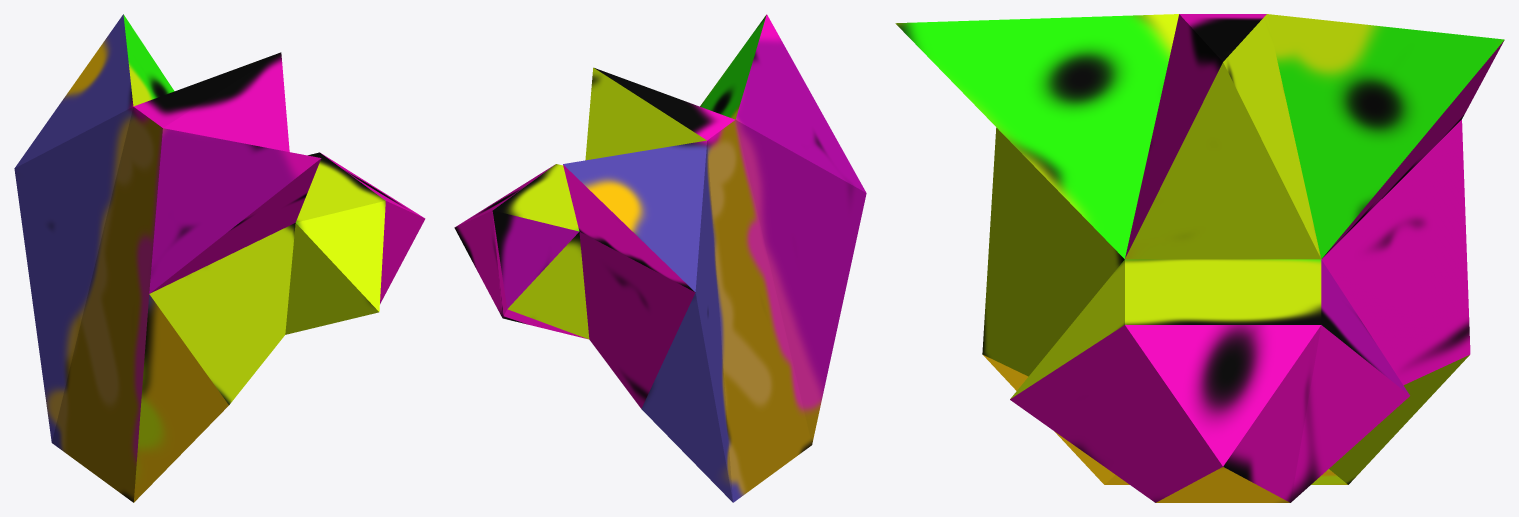
File: thing5.fbx
The picture shows the model from 3 angles, left to right: view 1: azimuth 30°, elevation 25°; view 2: azimuth 150°, elevation 25°; view 3: azimuth 270°, elevation 25°; orthographic projection. The views are drawn at different scales.
Visible parts, largest first — view 1: Cube; view 2: Cube; view 3: Cube.
Part boxes in pixels (bbox=[...]): Cube: bbox=[14, 14, 425, 502]; Cube: bbox=[454, 14, 866, 502]; Cube: bbox=[895, 14, 1504, 502].
Size of the model in its own units: 6.16 by 6.28 by 6.21.
1 material, 1 textured.
